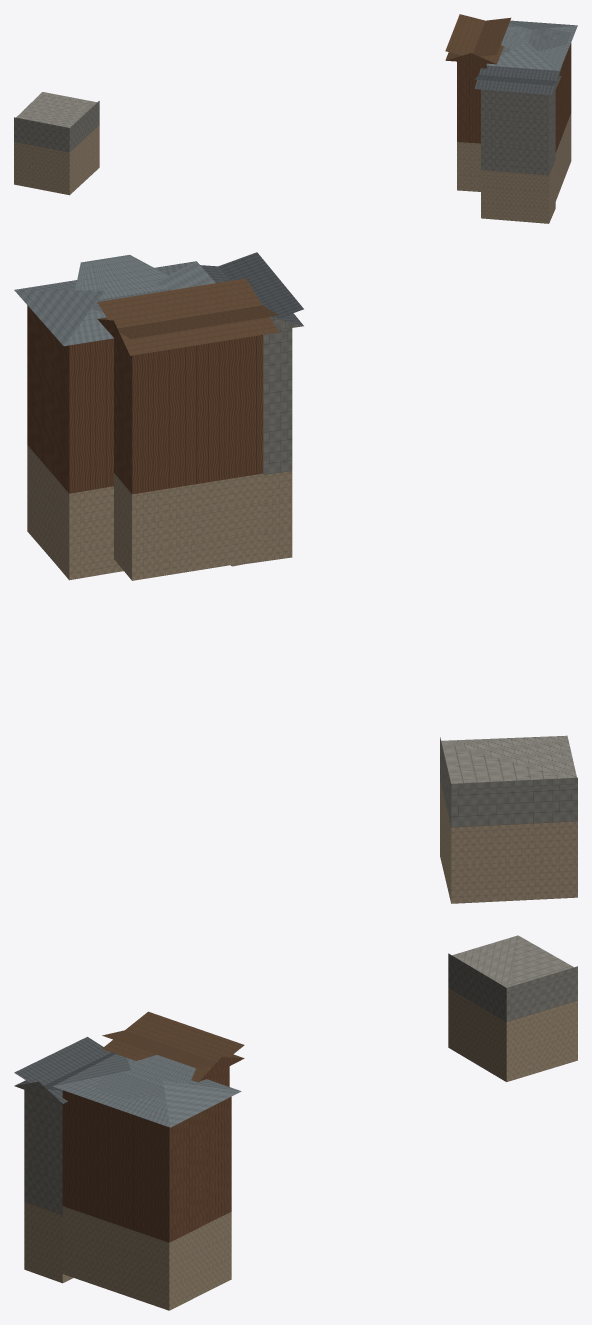
File: bld_c2_17_464.gltf
The picture shows the model from 3 angles, top to bottom: view 1: azimuth 30°, elevation 25°; view 2: azimuth 150°, elevation 25°; view 3: azimuth 270°, elevation 25°; orthographic projection. The views are drawn at different scales.
Parts seen in each view (by area): view 1: bld_c2_17_464; view 2: bld_c2_17_464; view 3: bld_c2_17_464.
Boxes of the visible parts, x1,y1,x2,y2 form: bld_c2_17_464: (14,14,577,223); bld_c2_17_464: (14,252,577,903); bld_c2_17_464: (14,935,577,1310).
Size of the model in its own units: 48.47 by 16.5 by 38.35.
Materials: 9 (9 with a texture image).
